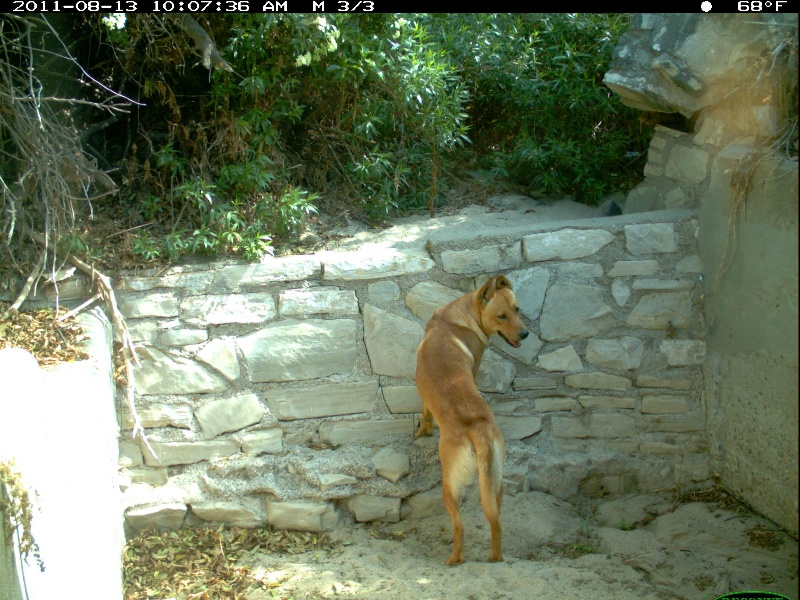dog: (410, 269, 533, 574)
